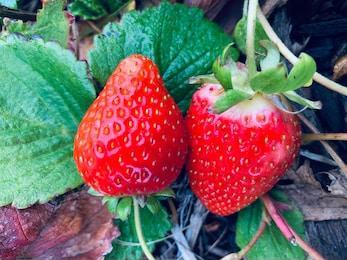Fresa: (178, 70, 305, 221), (68, 53, 190, 205)
